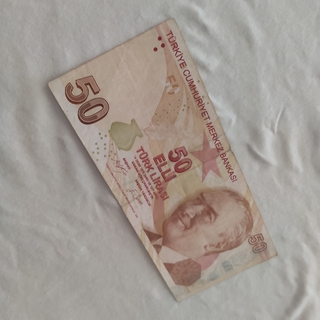50TLFront: (47, 16, 278, 302)
